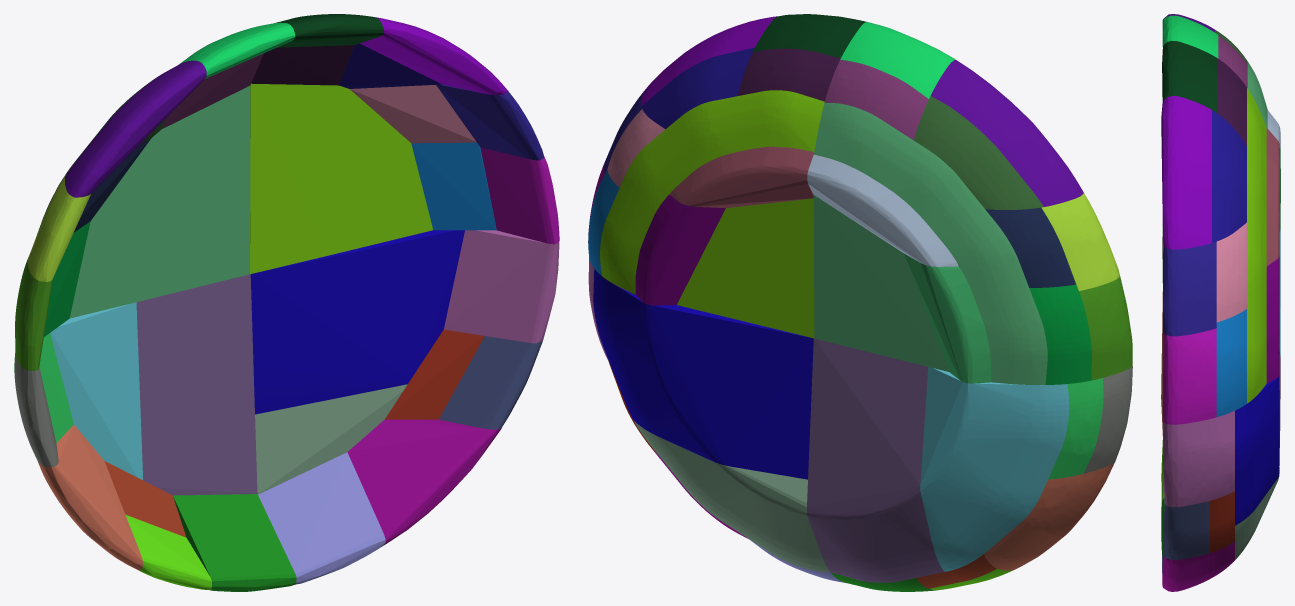
The model's file is coacd_collision.obj.
The picture shows the model from 3 angles, left to right: view 1: azimuth 30°, elevation 25°; view 2: azimuth 150°, elevation 25°; view 3: azimuth 270°, elevation 25°; orthographic projection. The views are drawn at different scales.
Parts seen in each view (by area): view 1: geometry_5, geometry_4, geometry_3, geometry_1, geometry_2, geometry_14, geometry_7, geometry_12, geometry_8, geometry_0, geometry_9, geometry_27 (+20 smaller); view 2: geometry_3, geometry_5, geometry_4, geometry_1, geometry_2, geometry_0, geometry_27, geometry_6, geometry_13, geometry_19, geometry_11, geometry_10 (+17 smaller); view 3: geometry_32, geometry_7, geometry_4, geometry_5, geometry_22, geometry_18, geometry_20, geometry_25, geometry_29, geometry_24, geometry_16, geometry_14 (+11 smaller).
Part boxes in pixels (box(x1,y1,x2,y2)): geometry_5: box(250, 230, 464, 414); geometry_4: box(250, 83, 432, 274); geometry_3: box(69, 86, 250, 318); geometry_1: box(136, 274, 257, 495); geometry_2: box(50, 302, 142, 479); geometry_14: box(347, 419, 501, 545); geometry_7: box(444, 230, 559, 343); geometry_12: box(258, 452, 385, 584); geometry_8: box(173, 494, 296, 591); geometry_0: box(255, 384, 407, 494); geometry_9: box(38, 425, 142, 570); geometry_27: box(65, 60, 206, 197); geometry_3: box(813, 103, 1047, 384); geometry_5: box(593, 269, 813, 479); geometry_4: box(600, 90, 824, 338); geometry_1: box(807, 338, 944, 582); geometry_2: box(920, 367, 1069, 571); geometry_0: box(633, 420, 830, 572); geometry_27: box(930, 60, 1083, 206); geometry_6: box(807, 154, 958, 266); geometry_13: box(669, 146, 813, 208); geometry_19: box(913, 96, 1043, 209); geometry_11: box(635, 194, 725, 305); geometry_10: box(903, 253, 991, 383); geometry_32: box(1161, 96, 1211, 249); geometry_7: box(1163, 411, 1234, 506); geometry_4: box(1247, 88, 1266, 403); geometry_5: box(1235, 375, 1279, 525); geometry_22: box(1163, 328, 1216, 424); geometry_18: box(1163, 241, 1216, 336); geometry_20: box(1212, 110, 1246, 242); geometry_25: box(1162, 41, 1216, 112); geometry_29: box(1216, 309, 1246, 416); geometry_24: box(1216, 222, 1246, 322); geometry_16: box(1163, 501, 1209, 559); geometry_14: box(1162, 541, 1234, 591).
Size of the model in its own units: 194 by 194 by 40.13.
